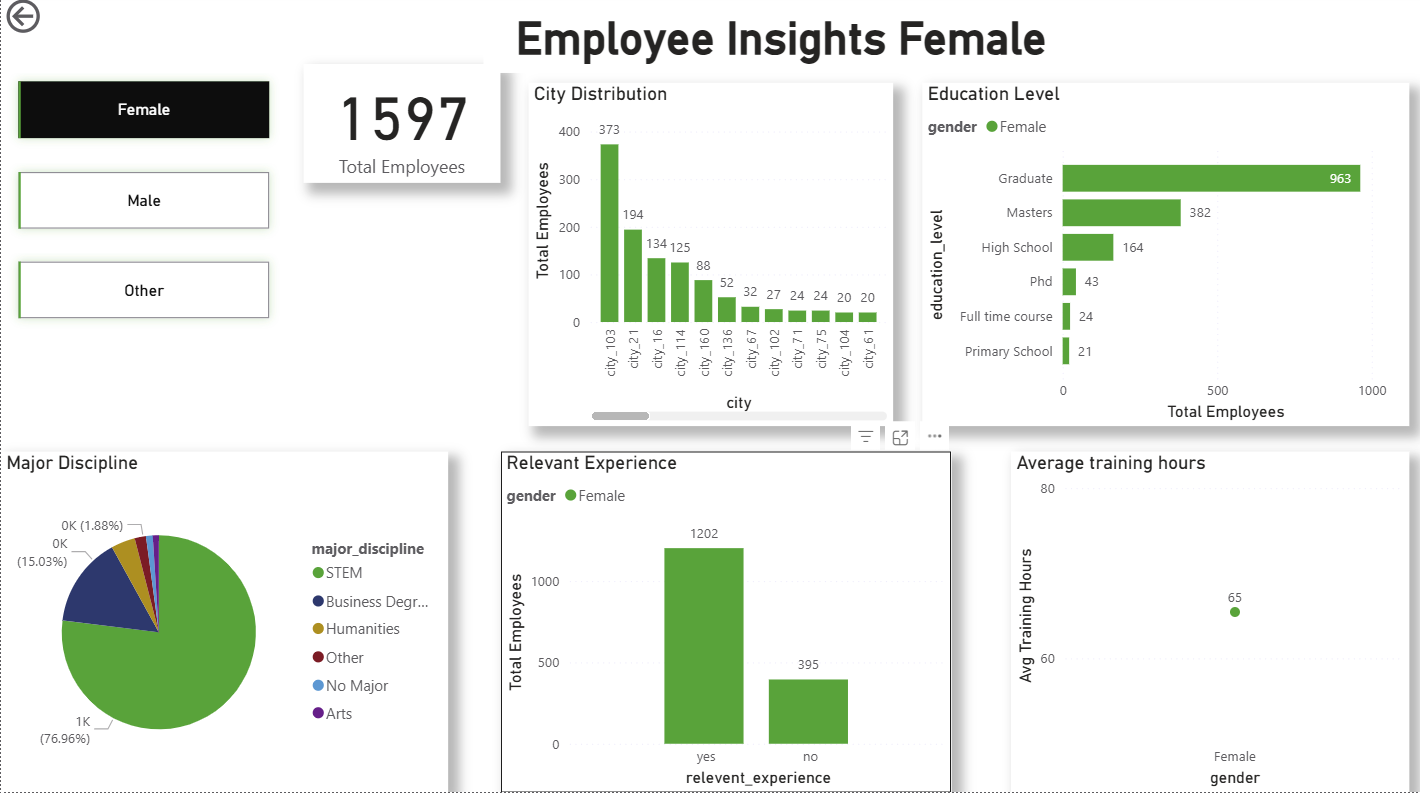

Layout of this report page (visuals, bound fields, positions):
{"tool":"powerbi","page":{"name":"Page 1","canvas":[1280,720],"ordinal":0},"visuals":[{"type":"columnChart","title":"City Distribution","fields":{"Y":["aug_test.Total Employees"],"Category":["aug_test.city"]},"box":[475.2,79.6,328.4,309.7],"z":0},{"type":"clusteredBarChart","title":"Education Level","fields":{"Category":["aug_test.education_level"],"Y":["aug_test.Total Employees"],"Series":["aug_test.gender"]},"box":[831,79.6,439.1,309.7],"z":1000},{"type":"actionButton","box":[0,0,100,40],"z":2000},{"type":"pieChart","title":"Major Discipline","fields":{"Category":["aug_test.major_discipline"],"Y":["aug_test.Total Employees"]},"box":[0,413,403,307.3],"z":3000},{"type":"clusteredColumnChart","title":"Relevant Experience","fields":{"Y":["aug_test.Total Employees"],"Category":["aug_test.relevent_experience"],"Series":["aug_test.gender"]},"box":[450.3,413,406.8,307.3],"z":4000},{"type":"lineChart","title":"Average training hours","fields":{"Y":["aug_test.Avg Training Hours"],"Category":["aug_test.gender"]},"box":[910.6,413,359.5,307.3],"z":5000},{"type":"card","fields":{"Values":["aug_test.Total Employees"]},"box":[179.8,67.2,192.1,115.3],"z":6000},{"type":"imageDB603108E3FF4EBFB8047F5653368E8C","fields":{"imageUrl":["Table (2).ImageUrl"],"imageTitle":["Table (2).gender"]},"box":[201.7,220.9,146.8,138.6],"z":7000},{"type":"card","fields":{"Values":["aug_test.Dashboard Title"]},"box":[435.4,0,537.4,70.9],"z":8000},{"type":"imageDB603108E3FF4EBFB8047F5653368E8C","fields":{"imageUrl":["Table (2).ImageUrl"],"imageTitle":["Table (2).gender"]},"box":[12.3,52.1,149.6,145.5],"z":8001},{"type":"imageDB603108E3FF4EBFB8047F5653368E8C","fields":{"imageUrl":["Table (2).ImageUrl"],"imageTitle":["Table (2).gender"]},"box":[12.3,207.2,149.6,152.3],"z":8002}]}

Visuals, with their boxes in screenshot pixels (x1, y1, x2, y2), scaled from the page's 1280x720 canvas onto the 1420x793 screenshot:
"City Distribution" columnChart: {"x1": 527, "y1": 88, "x2": 891, "y2": 429}
"Education Level" clusteredBarChart: {"x1": 922, "y1": 88, "x2": 1409, "y2": 429}
actionButton: {"x1": 0, "y1": 0, "x2": 111, "y2": 44}
"Major Discipline" pieChart: {"x1": 0, "y1": 455, "x2": 447, "y2": 792}
"Relevant Experience" clusteredColumnChart: {"x1": 500, "y1": 455, "x2": 951, "y2": 792}
"Average training hours" lineChart: {"x1": 1010, "y1": 455, "x2": 1409, "y2": 792}
card - aug_test.Total Employees: {"x1": 199, "y1": 74, "x2": 413, "y2": 201}
imageDB603108E3FF4EBFB8047F5653368E8C - Table (2).ImageUrl x Table (2).gender: {"x1": 224, "y1": 243, "x2": 387, "y2": 396}
card - aug_test.Dashboard Title: {"x1": 483, "y1": 0, "x2": 1079, "y2": 78}
imageDB603108E3FF4EBFB8047F5653368E8C - Table (2).ImageUrl x Table (2).gender: {"x1": 14, "y1": 57, "x2": 180, "y2": 218}
imageDB603108E3FF4EBFB8047F5653368E8C - Table (2).ImageUrl x Table (2).gender: {"x1": 14, "y1": 228, "x2": 180, "y2": 396}
